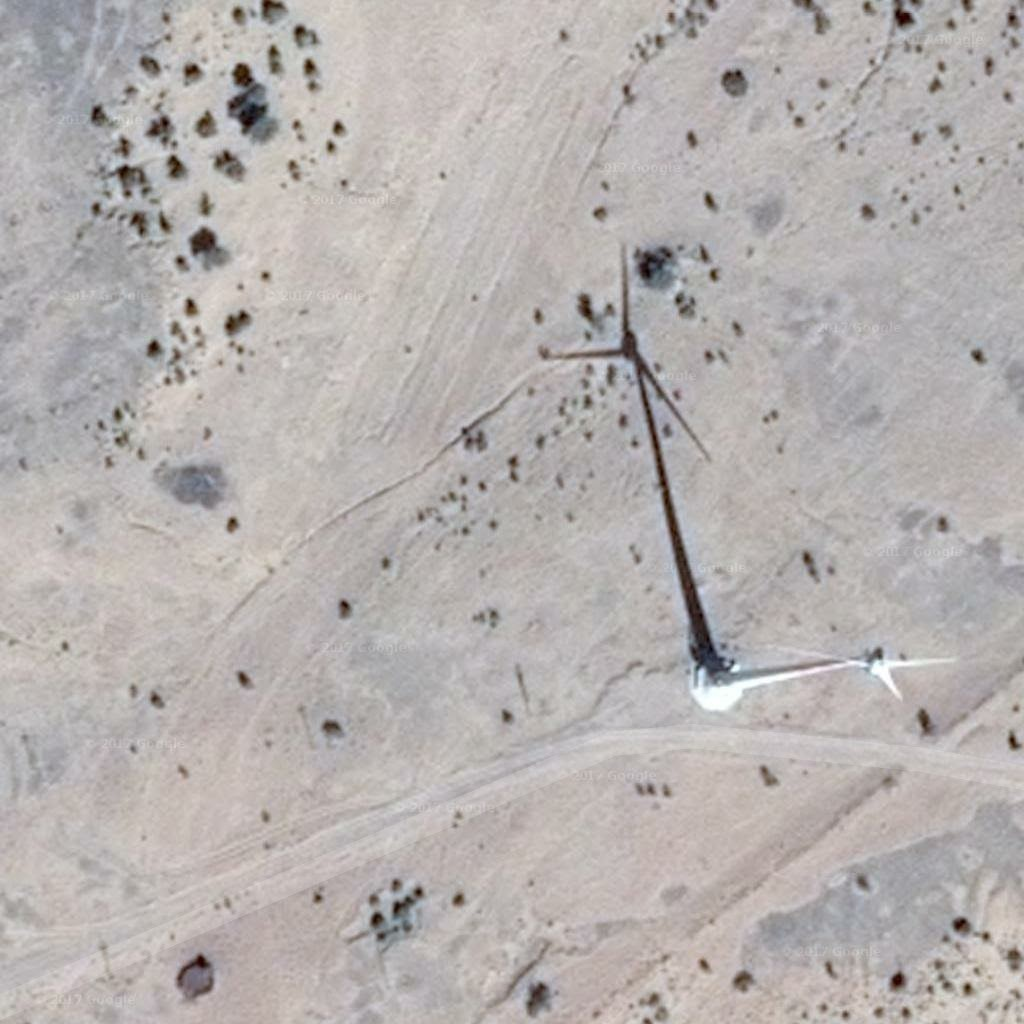Windmill: (541, 244, 737, 662)
